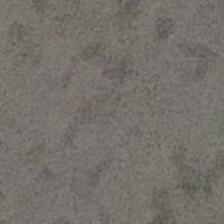Non_Crack: (42, 55, 194, 202)
